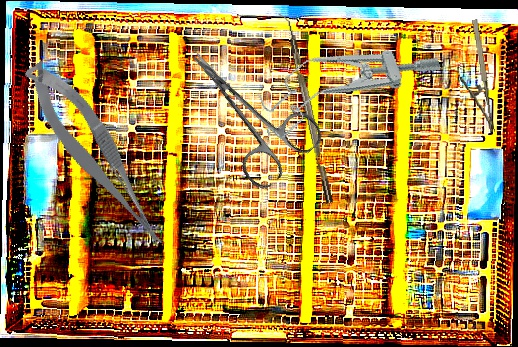Chopper: (275, 11, 334, 206)
Iris Scissors: (164, 24, 328, 194)
Micro Scissor: (17, 48, 173, 264)
Needle Holder: (453, 18, 495, 136)
Speculum: (249, 19, 446, 143)
